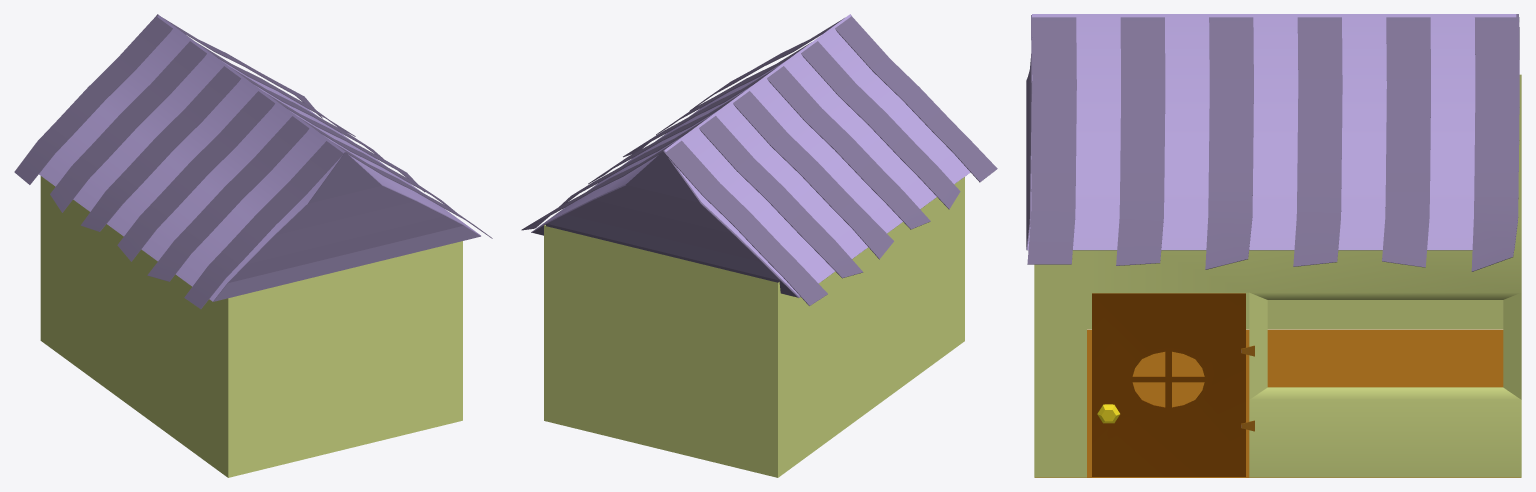
File: SK_Casa_Blanca.fbx
3 views of the same model, side by side, from view 1: azimuth 30°, elevation 25°; view 2: azimuth 150°, elevation 25°; view 3: azimuth 270°, elevation 25° (orthographic). The views are drawn at different scales.
Parts seen in each view (by area): view 1: Casa_blanca; view 2: Casa_blanca; view 3: Casa_blanca.
Part boxes in pixels (box(x1,y1,x2,y2)): Casa_blanca: box(14, 14, 492, 477); Casa_blanca: box(521, 14, 997, 477); Casa_blanca: box(1026, 14, 1521, 477).
Bounding box in the file's own units: 1.48 × 1.43 × 1.65.
